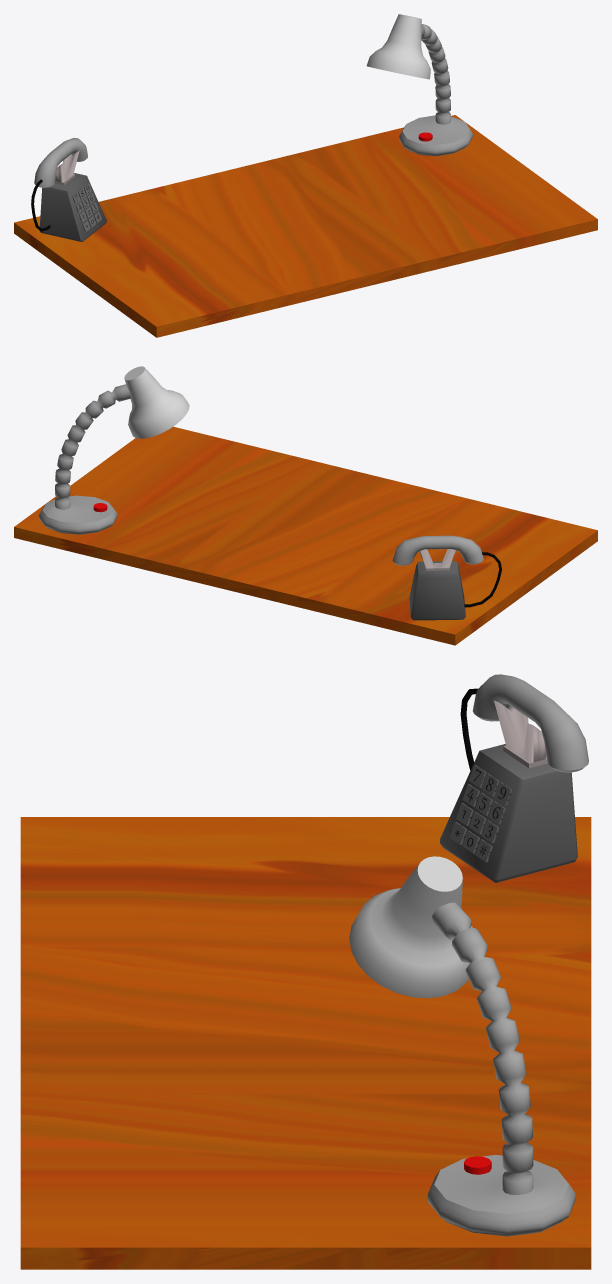
The model's file is Lamp+.FBX.
3 views of the same model, one above another, from view 1: azimuth 30°, elevation 25°; view 2: azimuth 150°, elevation 25°; view 3: azimuth 270°, elevation 25° (orthographic). The views are drawn at different scales.
Visible parts, largest first — view 1: Box001, Box003, Cone001, Cylinder002, Cylinder001, Cylinder004, Box002; view 2: Box001, Cone001, Box003, Cylinder001, Cylinder002, Cylinder004, Box002; view 3: Box001, Cone001, Box003, Cylinder001, Cylinder002, Cylinder004, Box002.
Part boxes in pixels (x1,y1,x2,y2): Box001: (14,115,597,337); Box003: (39,173,106,241); Cone001: (366,14,430,79); Cylinder002: (399,115,472,156); Cylinder001: (421,24,450,124); Cylinder004: (34,138,87,187); Box002: (55,151,79,185); Box001: (14,426,597,645); Cone001: (124,366,189,438); Box003: (409,561,465,620); Cylinder001: (55,384,130,509); Cylinder002: (38,495,117,534); Cylinder004: (392,535,483,565); Box002: (419,549,455,570); Box001: (20,817,591,1269); Cone001: (349,856,472,998); Box003: (439,744,577,882); Cylinder001: (432,902,533,1194); Cylinder002: (427,1155,576,1236); Cylinder004: (472,674,588,772); Box002: (494,700,547,768).
Bounding box in the file's own units: 345 × 117 × 187.
22 materials, 22 textured.
